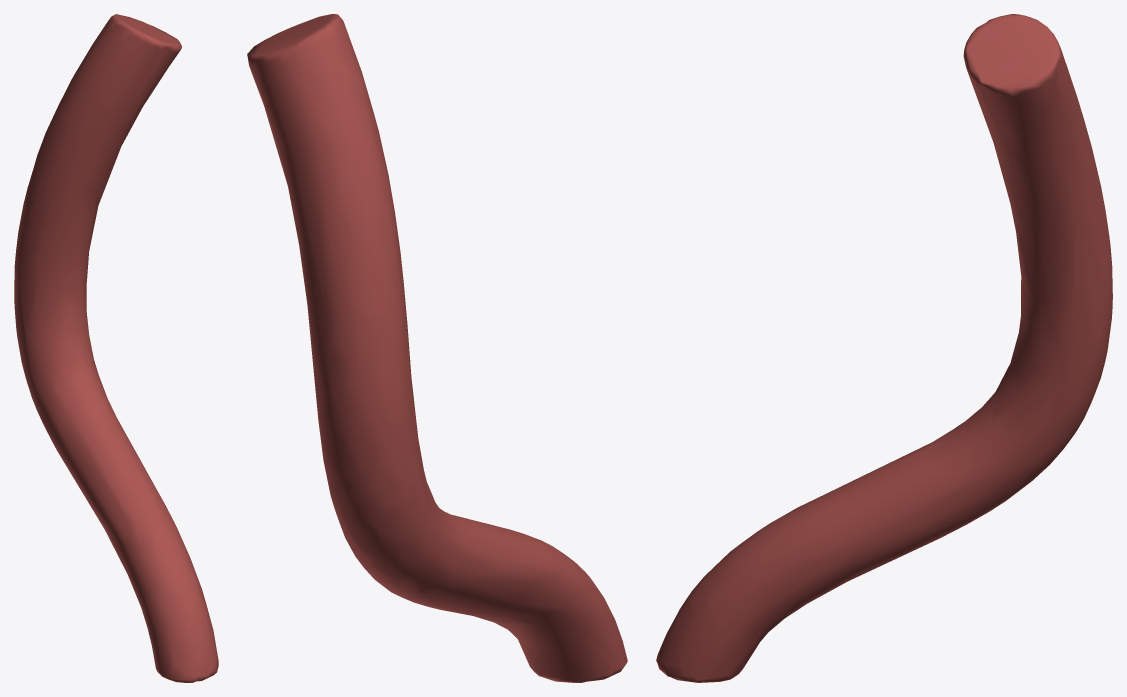
File: FMA18806.glb
3 renders of one model, left to right at view 1: azimuth 30°, elevation 25°; view 2: azimuth 150°, elevation 25°; view 3: azimuth 270°, elevation 25°, orthographic. The views are drawn at different scales.
Parts seen in each view (by area): view 1: FMA18806; view 2: FMA18806; view 3: FMA18806.
Part boxes in pixels (bbox=[...]): FMA18806: bbox=[14, 14, 218, 682]; FMA18806: bbox=[247, 14, 627, 682]; FMA18806: bbox=[656, 14, 1112, 682].
Bounding box in the file's own units: 0.026 × 0.0954 × 0.0574.
